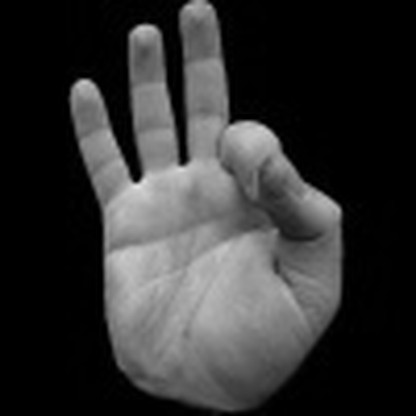f: (53, 1, 348, 401)
